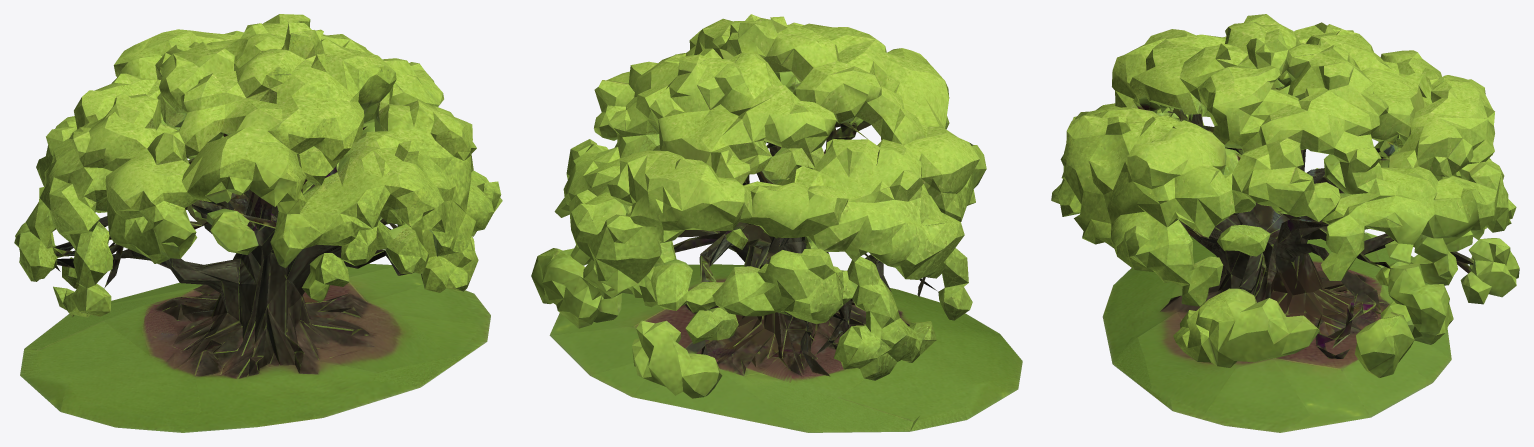
Rendered from oak_c.glb.
3 renders of one model, left to right at view 1: azimuth 30°, elevation 25°; view 2: azimuth 150°, elevation 25°; view 3: azimuth 270°, elevation 25°, orthographic.
Bounding box in the file's own units: 1.87 × 1.31 × 1.78.
Materials: 1 (1 with a texture image).
